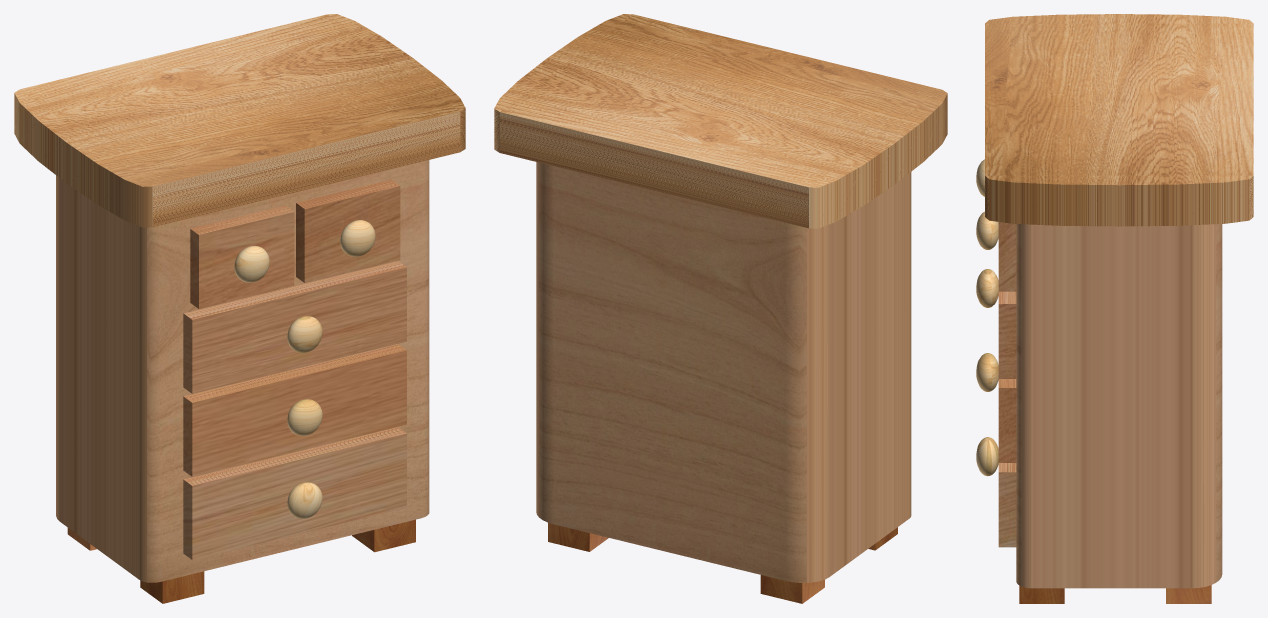
File: Cajonera.obj
The picture shows the model from 3 angles, left to right: view 1: azimuth 30°, elevation 25°; view 2: azimuth 150°, elevation 25°; view 3: azimuth 270°, elevation 25°; orthographic projection.
Visible parts, largest first — view 1: polySurface1, Cajonera_pCube1, Cajonera_pCube4, Cajonera_pCube3, Cajonera_pCube5, Cajonera_pCube6, Cajonera_pCube7, Cajonera_pCube8, Cajonera_pCube11, pSphere3, pSphere1, pSphere5 (+2 smaller); view 2: Cajonera_pCube1, polySurface1, Cajonera_pCube9, Cajonera_pCube10; view 3: Cajonera_pCube1, polySurface1, Cajonera_pCube5, Cajonera_pCube3, Cajonera_pCube4, Cajonera_pCube6, Cajonera_pCube10, Cajonera_pCube11, pSphere3, pSphere4, pSphere5, pSphere2.
Part boxes in pixels (left/top/right/bottom): polySurface1: left=14, top=14, right=465, bottom=227; Cajonera_pCube1: left=56, top=160, right=429, bottom=582; Cajonera_pCube4: left=183, top=344, right=406, bottom=476; Cajonera_pCube3: left=183, top=427, right=406, bottom=559; Cajonera_pCube5: left=183, top=261, right=406, bottom=393; Cajonera_pCube6: left=296, top=179, right=400, bottom=283; Cajonera_pCube7: left=190, top=205, right=294, bottom=308; Cajonera_pCube8: left=140, top=571, right=204, bottom=603; Cajonera_pCube11: left=352, top=519, right=415, bottom=552; pSphere3: left=287, top=316, right=322, bottom=352; pSphere1: left=234, top=246, right=269, bottom=282; pSphere5: left=287, top=399, right=322, bottom=435; Cajonera_pCube1: left=536, top=162, right=911, bottom=582; polySurface1: left=494, top=14, right=947, bottom=228; Cajonera_pCube9: left=760, top=575, right=824, bottom=603; Cajonera_pCube10: left=548, top=522, right=608, bottom=551; Cajonera_pCube1: left=1016, top=224, right=1222, bottom=588; polySurface1: left=985, top=14, right=1253, bottom=226; Cajonera_pCube5: left=998, top=291, right=1016, bottom=378; Cajonera_pCube3: left=998, top=463, right=1016, bottom=547; Cajonera_pCube4: left=998, top=379, right=1016, bottom=462; Cajonera_pCube6: left=998, top=222, right=1016, bottom=291; Cajonera_pCube10: left=1166, top=585, right=1211, bottom=603; Cajonera_pCube11: left=1019, top=585, right=1064, bottom=603; pSphere3: left=976, top=269, right=998, bottom=307; pSphere4: left=976, top=437, right=998, bottom=476; pSphere5: left=976, top=353, right=998, bottom=391; pSphere2: left=976, top=211, right=998, bottom=249.
Bounding box in the file's own units: 1.1 × 1.33 × 0.7559.
5 materials, 5 textured.
